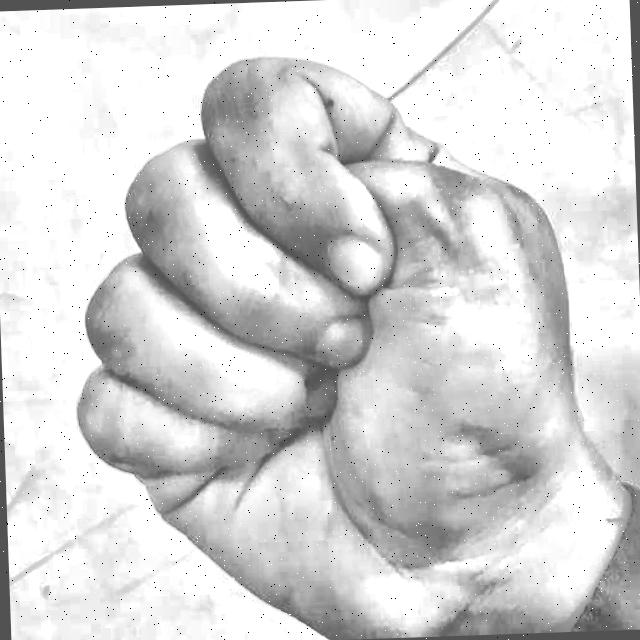To: (60, 21, 617, 640)
